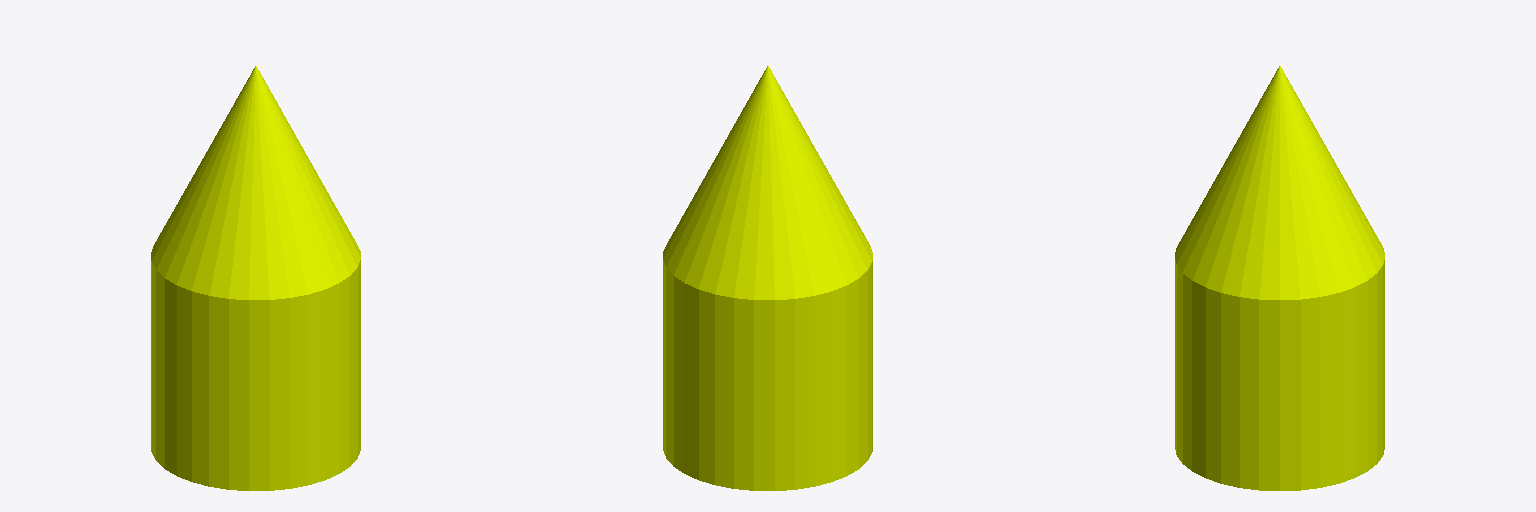
File: Hut.obj
The picture shows the model from 3 angles: view 1: azimuth 30°, elevation 25°; view 2: azimuth 150°, elevation 25°; view 3: azimuth 270°, elevation 25°; orthographic projection.
Parts seen in each view (by area): view 1: Cylinder; view 2: Cylinder; view 3: Cylinder.
Part boxes in pixels (bbox=[...]): Cylinder: bbox=[151, 66, 360, 490]; Cylinder: bbox=[663, 66, 872, 490]; Cylinder: bbox=[1175, 66, 1384, 490].
Size of the model in its own units: 2 by 4 by 2.